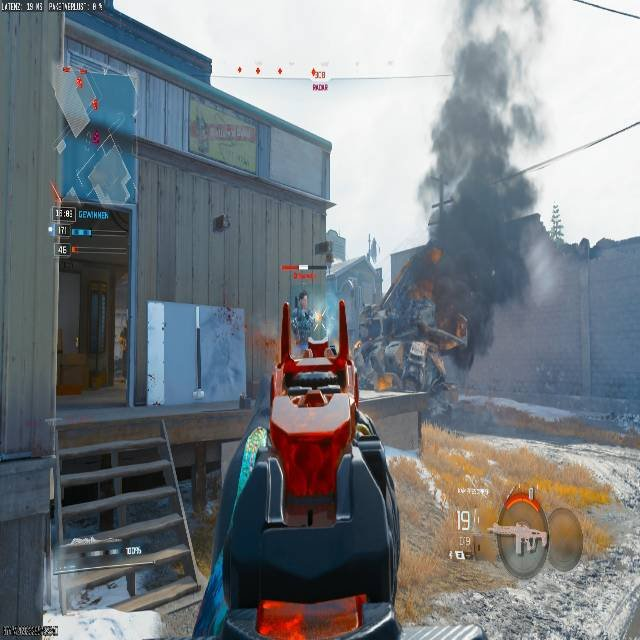head: (293, 289, 309, 307)
player: (286, 288, 326, 353), (296, 289, 309, 321)
